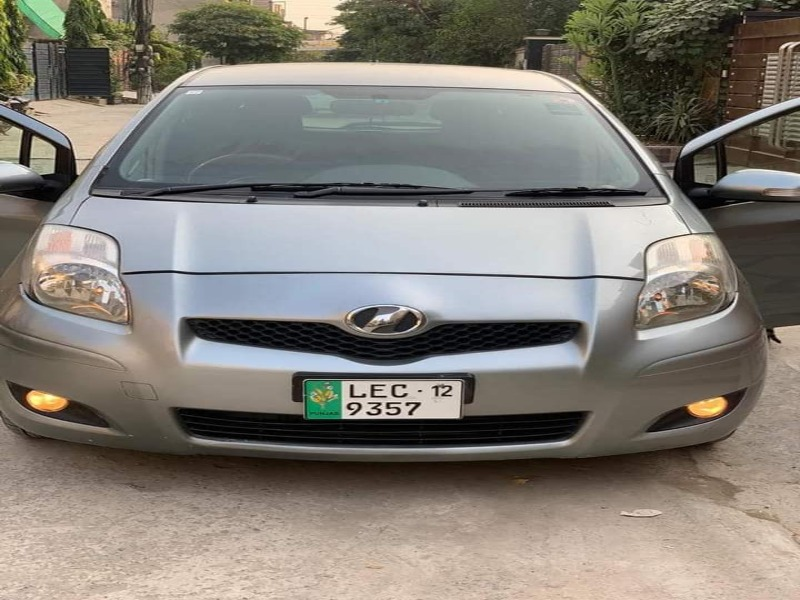License Plate: (299, 375, 469, 423)
